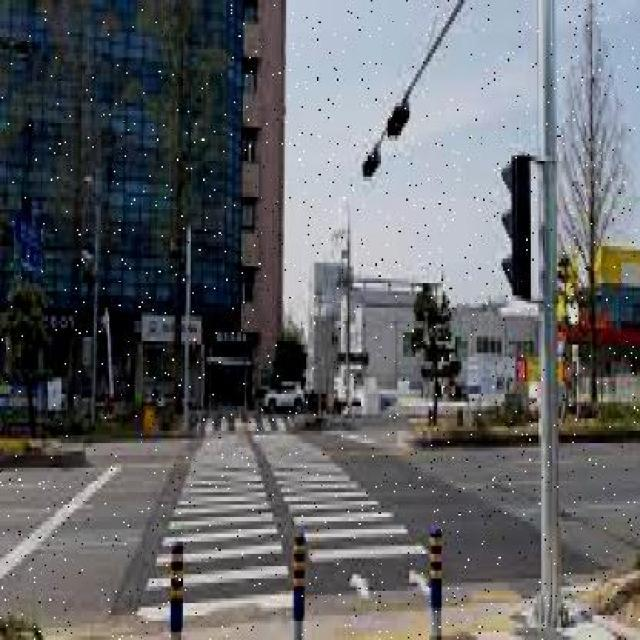crosswalk: (137, 435, 300, 609), (252, 434, 428, 563), (206, 413, 288, 432)
